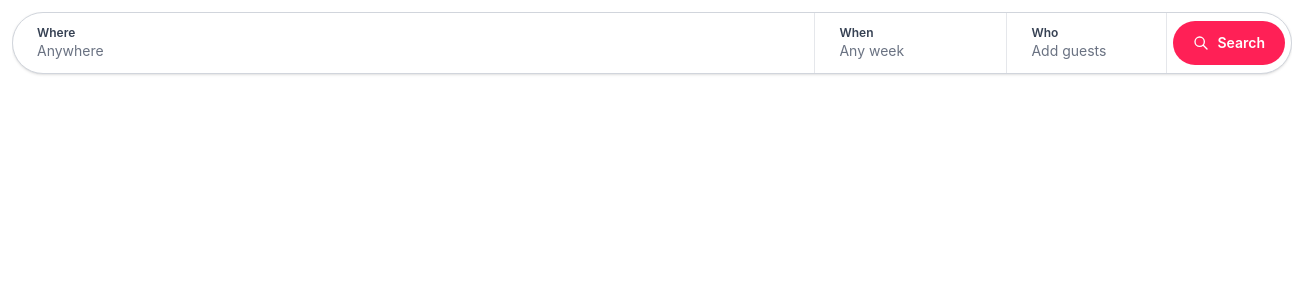
Test: SearchBar panels › clicking + in Who panel increments guest count shown in pill
Click the text "Add guests". click: (1069, 50)
box: [1032,42,1106,59]
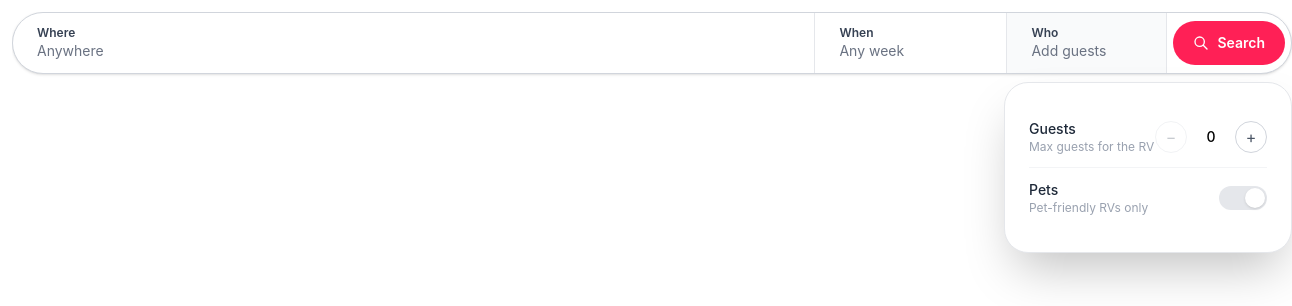
Click the button named "Add guest". click: (1251, 137)
box: [1235,121,1267,153]
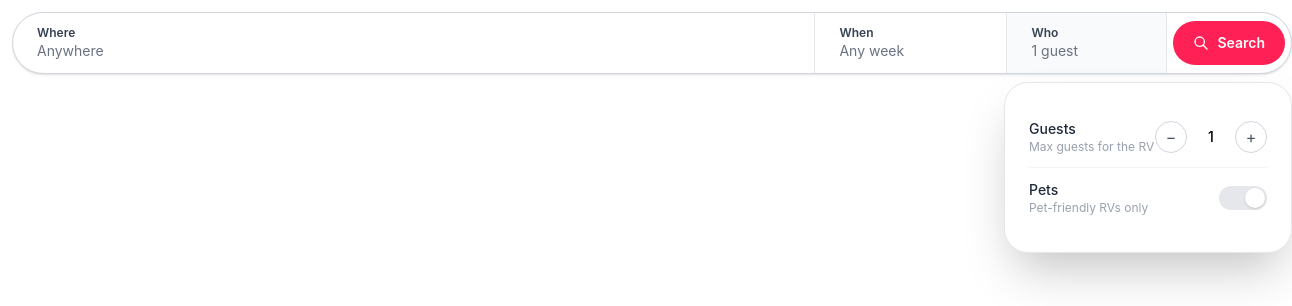
Now the text "1 guest" is shown, box [1032,42,1078,59]
